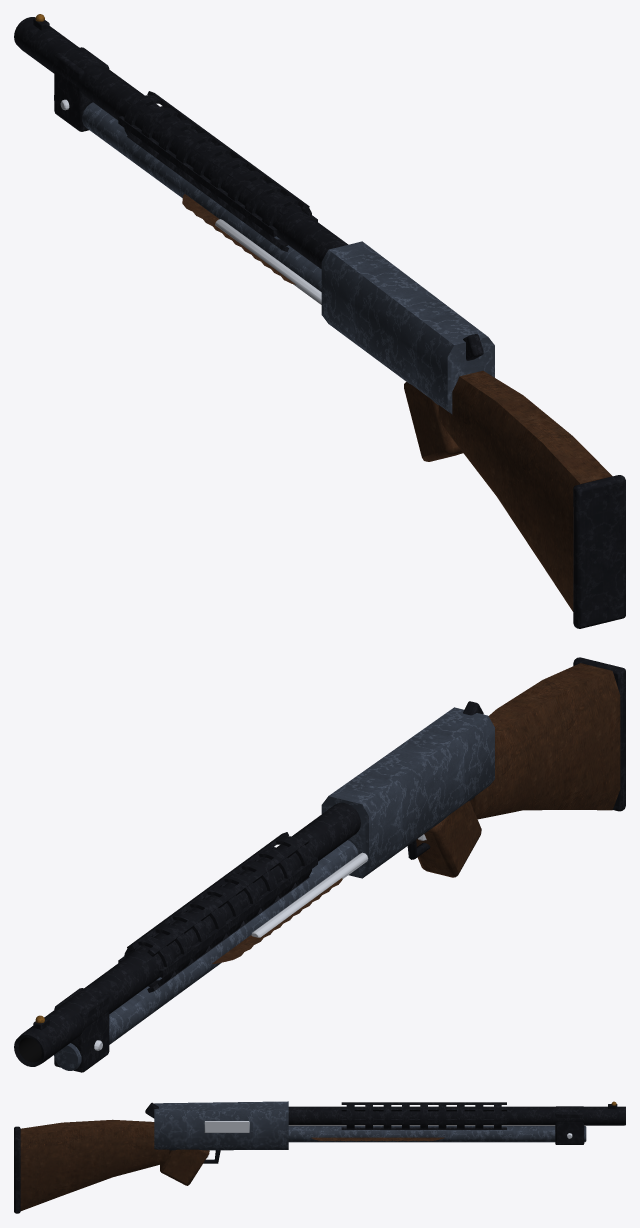
Rendered from trench_shotgun.glb.
The picture shows the model from 3 angles, top to bottom: view 1: azimuth 30°, elevation 25°; view 2: azimuth 150°, elevation 25°; view 3: azimuth 270°, elevation 25°; orthographic projection. The views are drawn at different scales.
Parts seen in each view (by area): view 1: Receiver, Pump; view 2: Receiver, Pump; view 3: Receiver, Bolt, Pump.
Part boxes in pixels (x1,y1,x2,y2): Receiver: (14, 14, 625, 628); Pump: (182, 194, 321, 304); Receiver: (14, 657, 625, 1072); Pump: (212, 852, 368, 963); Receiver: (14, 1101, 625, 1213); Bolt: (204, 1121, 249, 1132); Pump: (311, 1137, 444, 1141).
Size of the model in its own units: 0.051 by 0.1768 by 0.925.
Materials: 6 (4 with a texture image).
